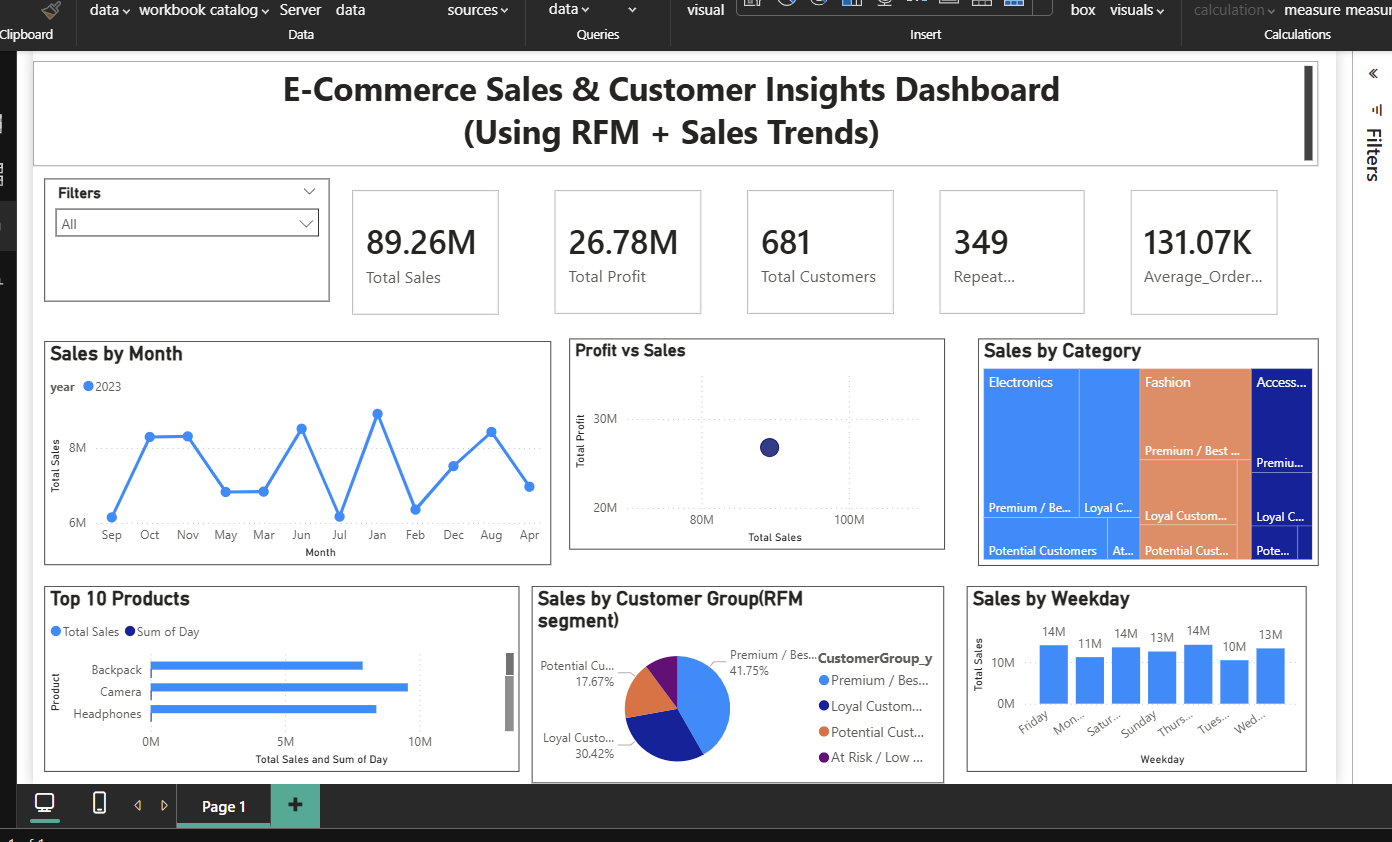

The page's visual inventory and layout, read from the dashboard file:
{"tool":"powerbi","page":{"name":"Page 1","canvas":[1280,720],"ordinal":0},"visuals":[{"type":"cardVisual","fields":{"Data":["Measures_.Total Sales"]},"box":[291.4,113.6,188.9,167.9],"z":0},{"type":"cardVisual","fields":{"Data":["Measures_.Total Profit"]},"box":[490.1,113.6,188.9,166.7],"z":1000},{"type":"cardVisual","fields":{"Data":["Measures_.Total Customers"]},"box":[679,113.6,188.9,166.7],"z":2000},{"type":"cardVisual","fields":{"Data":["Measures_.Average_Order_Value(AOV)"]},"box":[1055.6,113.6,188,167],"z":3000},{"type":"cardVisual","fields":{"Data":["Measures_.Repeat Customers"]},"box":[867.9,113.6,187.7,166.7],"z":4000},{"type":"lineChart","title":"Sales by Month","fields":{"Category":["DateTable.Month"],"Y":["Measures_.Total Sales"],"Series":["DateTable.year"]},"box":[11.1,285.2,497.5,219.8],"z":5000},{"type":"clusteredColumnChart","title":"Sales by Weekday","fields":{"Category":["DateTable.Weekday"],"Y":["Measures_.Total Sales"]},"box":[916,524.7,333.3,182.7],"z":6000},{"type":"clusteredBarChart","title":"Top 10 Products","fields":{"Category":["ecommerce_day4_segmented.Product"],"Y":["Measures_.Total Sales","Sum(ecommerce_day4_segmented.Day)"]},"box":[11.1,524.7,466.7,182.7],"z":8000},{"type":"pieChart","title":"Sales by Customer Group(RFM segment)","fields":{"Y":["CountNonNull(ecommerce_day4_segmented.CustomerID)"],"Category":["ecommerce_day4_segmented.CustomerGroup_y"]},"box":[490.1,524.7,404.9,193.8],"z":9000},{"type":"treemap","title":"Sales by Category","fields":{"Group":["ecommerce_day4_segmented.Category"],"Values":["Measures_.Total Sales"],"Details":["ecommerce_day4_segmented.CustomerGroup_x"]},"box":[927.2,282.7,334.6,223.5],"z":10000},{"type":"scatterChart","title":"Profit vs Sales","fields":{"X":["Measures_.Total Sales"],"Y":["Measures_.Total Profit"]},"box":[525.9,282.7,369.1,207.4],"z":11000},{"type":"slicer","fields":{"Values":["DateTable.year","DateTable.Month","ecommerce_day4_segmented.Category","ecommerce_day4_segmented.CustomerGroup_x"]},"box":[11.1,124.7,280.2,121],"z":12000},{"type":"textbox","box":[0,10,1261.4,103.2],"z":13000}]}

Visuals, with their boxes in screenshot pixels (x1, y1, x2, y2):
cardVisual - Measures_.Total Sales: 305/157/500/331
cardVisual - Measures_.Total Profit: 511/157/706/330
cardVisual - Measures_.Total Customers: 706/157/901/330
cardVisual - Measures_.Average_Order_Value(AOV): 1096/157/1290/330
cardVisual - Measures_.Repeat Customers: 901/157/1096/330
"Sales by Month" lineChart: 15/335/530/562
"Sales by Weekday" clusteredColumnChart: 951/583/1296/772
"Top 10 Products" clusteredBarChart: 15/583/498/772
"Sales by Customer Group(RFM segment)" pieChart: 511/583/929/783
"Sales by Category" treemap: 963/332/1309/564
"Profit vs Sales" scatterChart: 548/332/929/547
slicer - DateTable.year x DateTable.Month: 15/169/305/294
textbox: 4/50/1308/157
